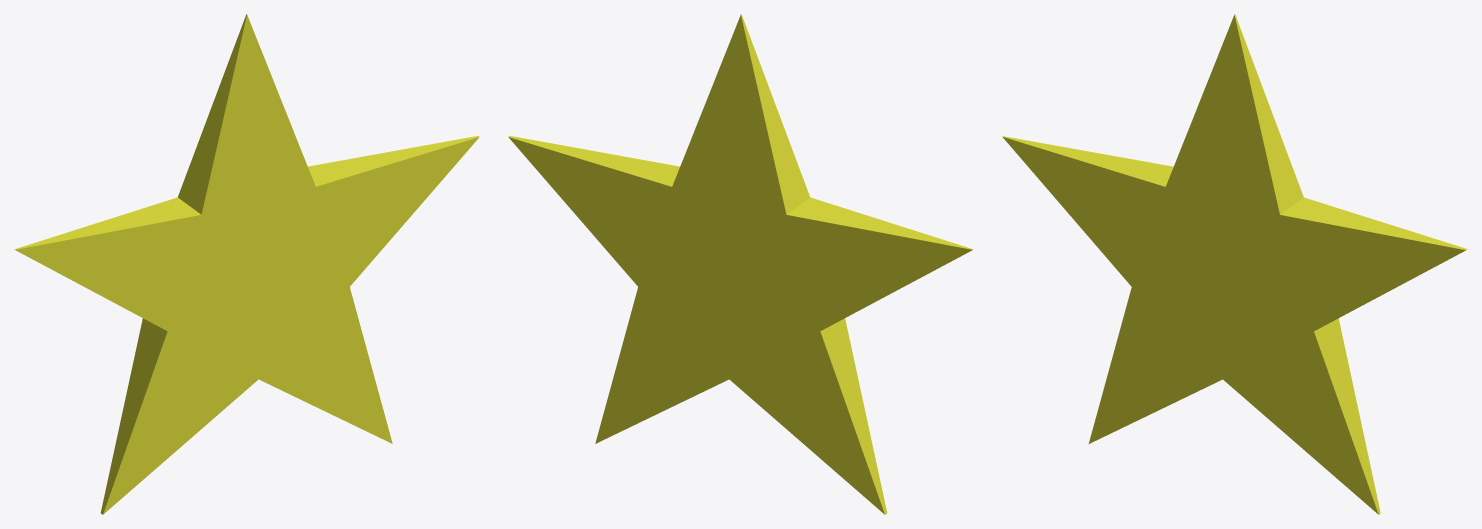
File: star.fbx
3 renders of one model, left to right at view 1: azimuth 30°, elevation 25°; view 2: azimuth 150°, elevation 25°; view 3: azimuth 330°, elevation 25°, orthographic.
Parts seen in each view (by area): view 1: Cube; view 2: Cube; view 3: Cube.
Boxes of the visible parts, x1=… form: Cube: x1=14, y1=14, x2=479, y2=514; Cube: x1=508, y1=14, x2=973, y2=514; Cube: x1=1002, y1=14, x2=1467, y2=514.
Bounding box in the file's own units: 416 × 398 × 37.
